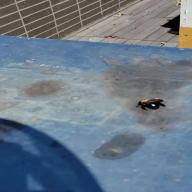Bee: (132, 97, 173, 112)
